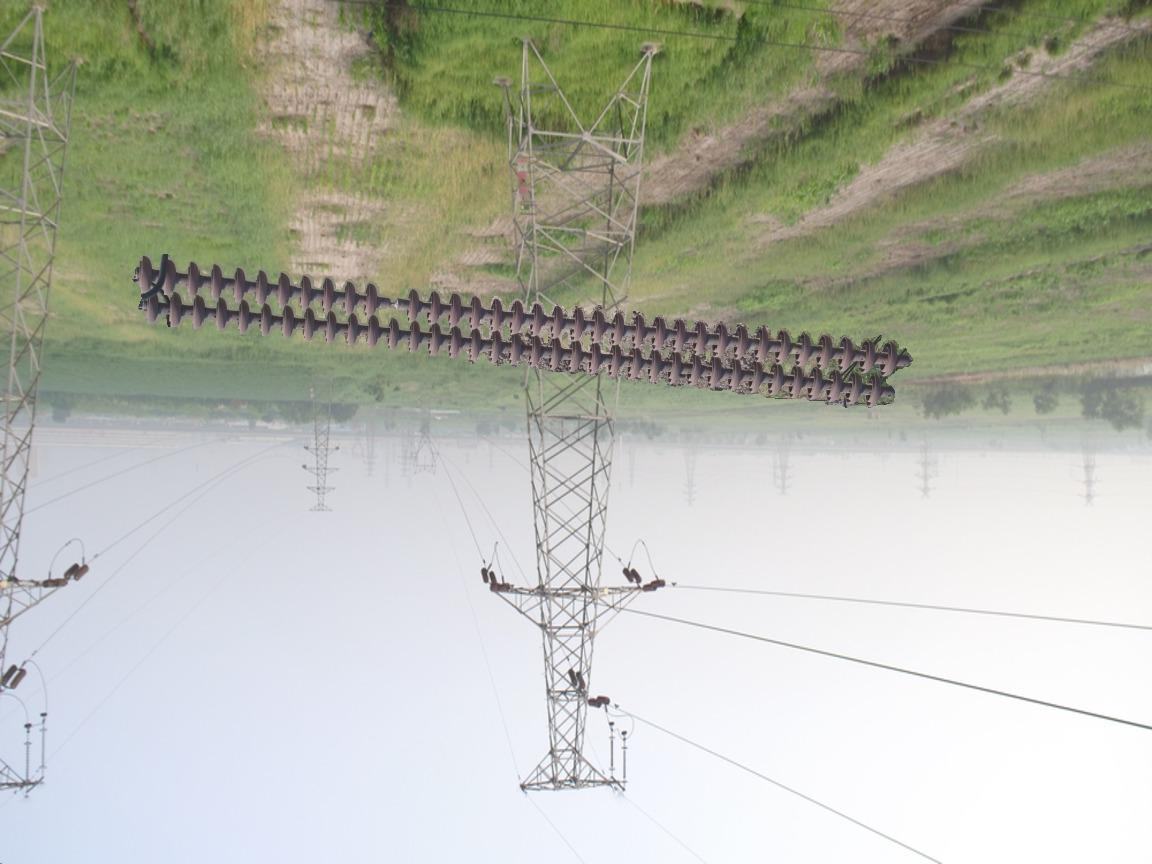insulator: (131, 249, 904, 415)
insulator_stringdrop: (360, 281, 422, 325)
